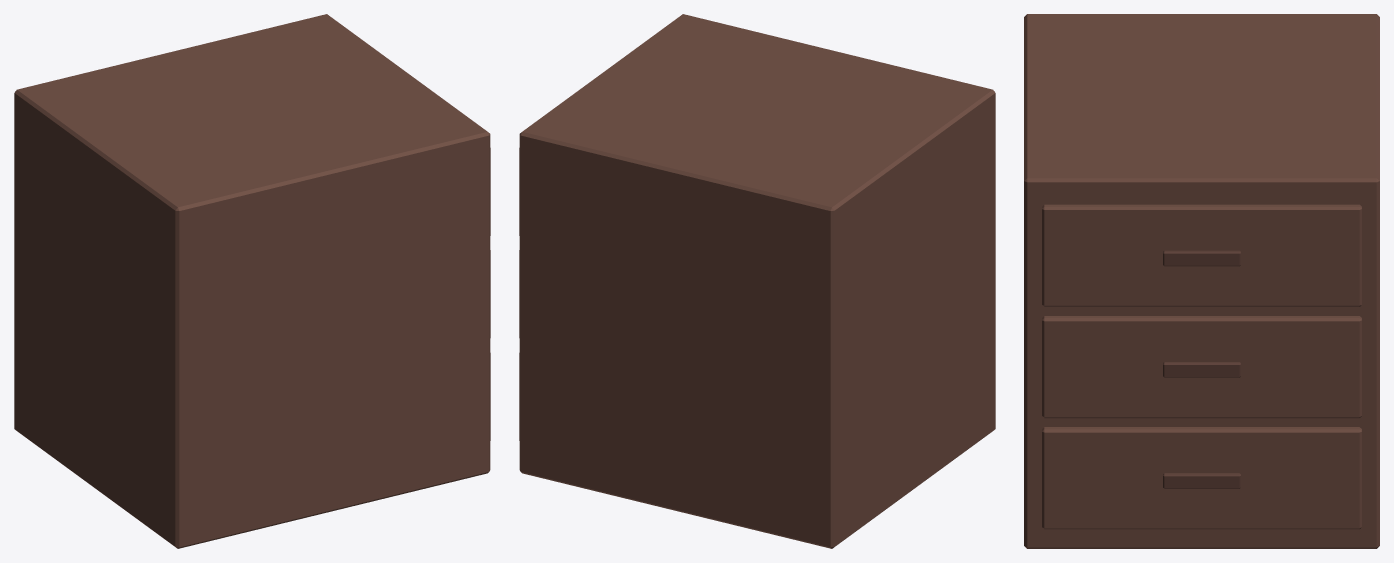
Rendered from commode_couloir.glb.
The picture shows the model from 3 angles, left to right: view 1: azimuth 30°, elevation 25°; view 2: azimuth 150°, elevation 25°; view 3: azimuth 270°, elevation 25°; orthographic projection. The views are drawn at different scales.
Parts seen in each view (by area): view 1: commode_couloir; view 2: commode_couloir; view 3: commode_couloir.
Part boxes in pixels (x1=…): commode_couloir: x1=14, y1=14, x2=490, y2=548; commode_couloir: x1=519, y1=14, x2=995, y2=548; commode_couloir: x1=1024, y1=14, x2=1379, y2=548.
Bounding box in the file's own units: 1.15 × 1.15 × 1.
1 material, 1 textured.
